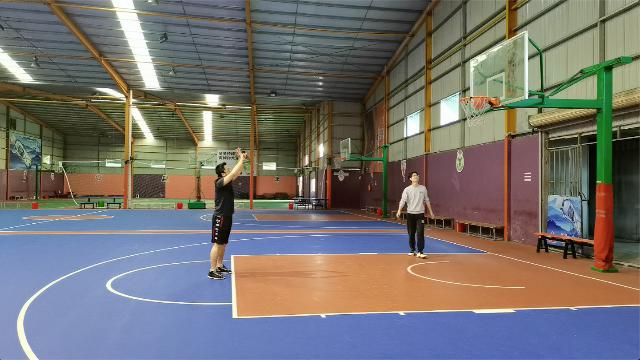basket: (459, 95, 489, 126)
goal: (473, 94, 487, 109)
